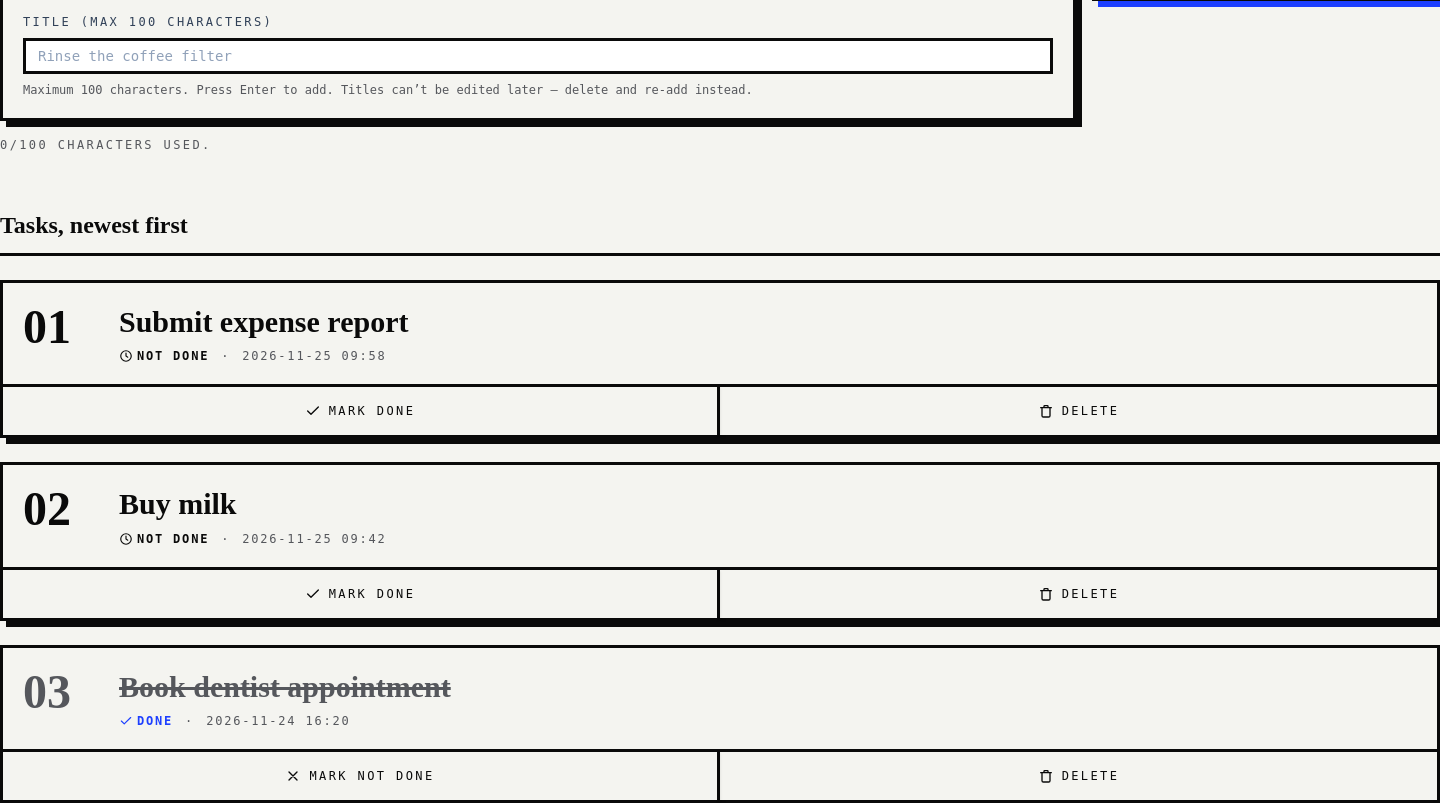
Scenario: Tasks — delete a task after confirming › [AC-017] removes the confirmed task from the list and reports it deleted
(page scrolled)
Click the button with test id "delete-btn" at (1078, 594), box left=720, top=570, right=1437, bottom=618
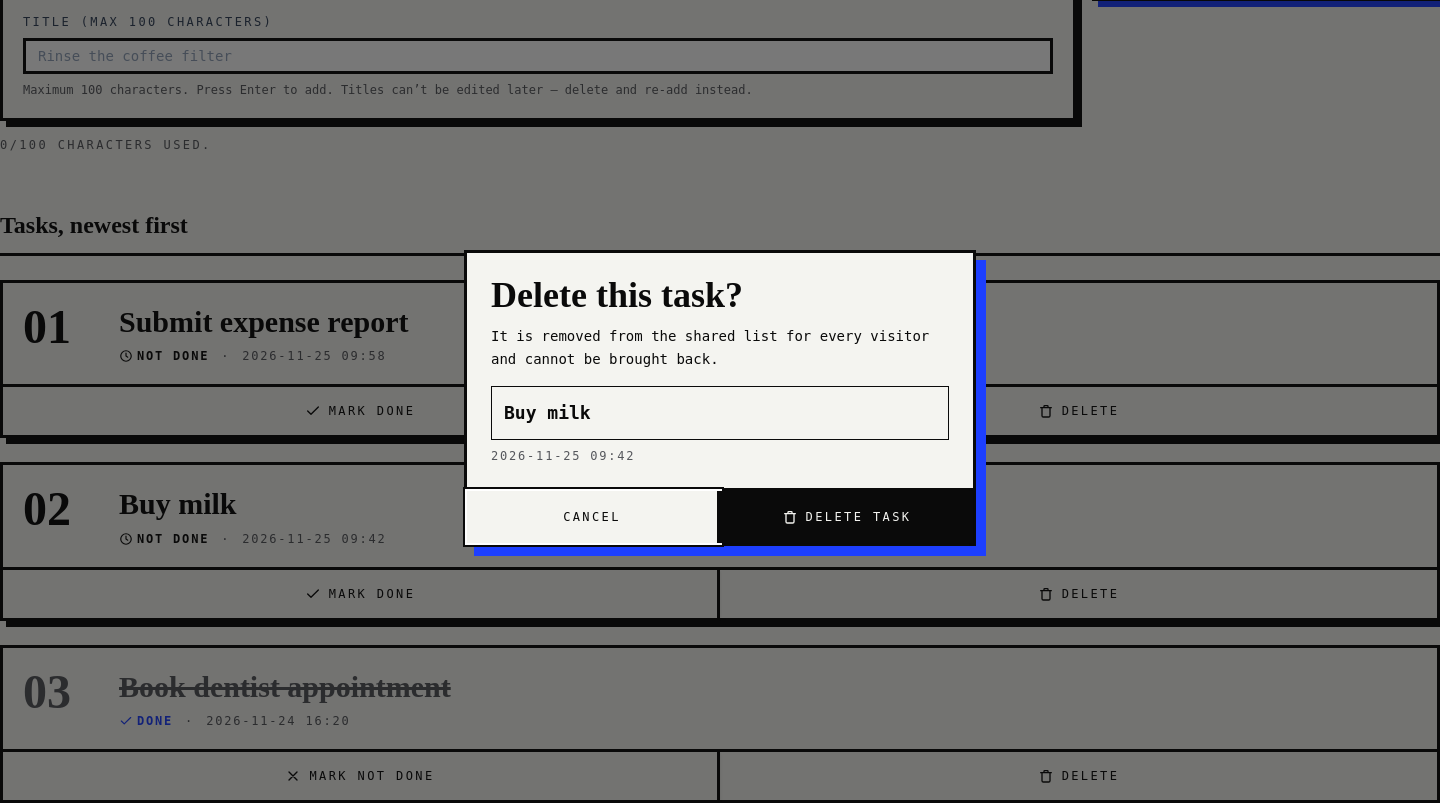
Click the button with test id "delete-task-btn" at (846, 517), box left=720, top=491, right=973, bottom=543
(page scrolled)
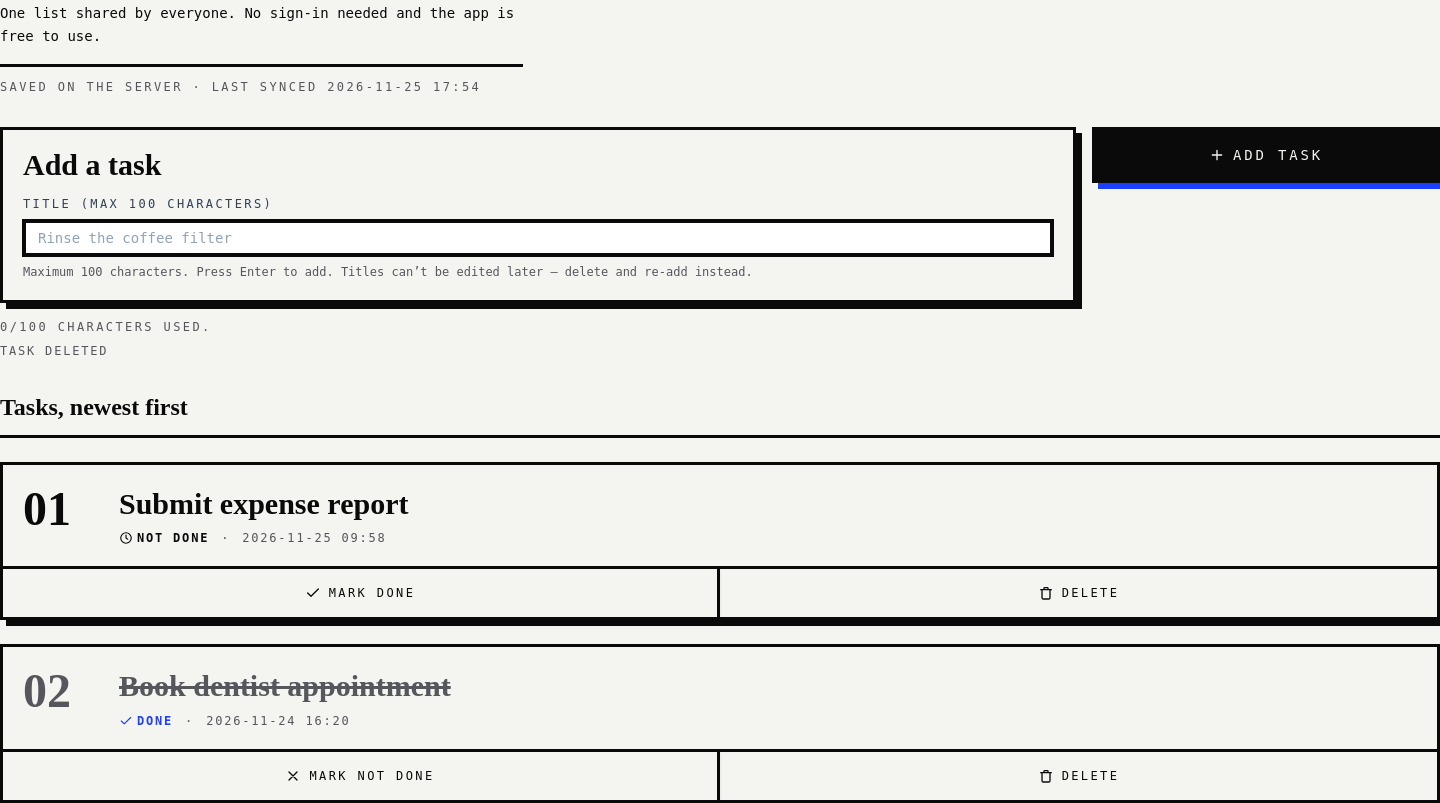
Now the dialog with test id "delete-this-task-modal" is gone
Now the text "Task deleted" is shown, box left=0, top=344, right=108, bottom=358
